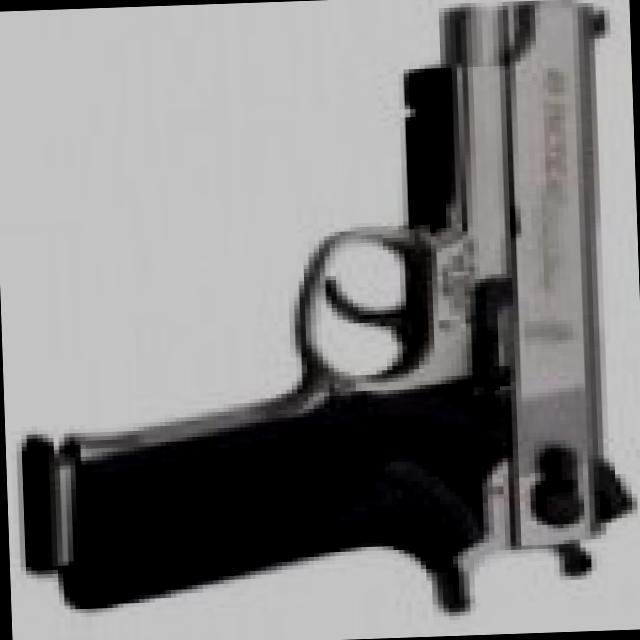handgun: (6, 1, 639, 611)
